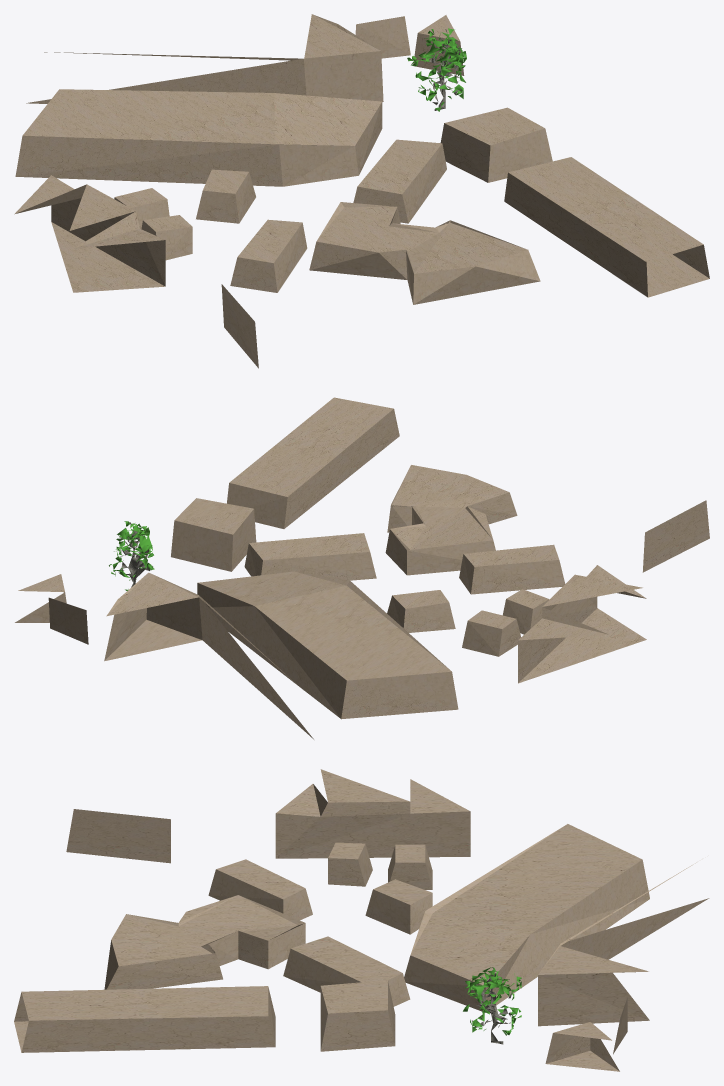
Rendered from tile_1_-2.gltf.
3 views of the same model, one above another, from view 1: azimuth 30°, elevation 25°; view 2: azimuth 150°, elevation 25°; view 3: azimuth 270°, elevation 25° (orthographic). The views are drawn at different scales.
Visible parts, largest first — view 1: Plane.011@tile_1_-2, Bodhi Tree_Bodhi_front_2_Mat_0.044@tile_1_-2; view 2: Plane.011@tile_1_-2, Bodhi Tree_Bodhi_front_2_Mat_0.044@tile_1_-2; view 3: Plane.011@tile_1_-2, Bodhi Tree_Bodhi_front_2_Mat_0.044@tile_1_-2.
Part boxes in pixels (x1,y1,x2,y2): Plane.011@tile_1_-2: (14, 14, 709, 368); Bodhi Tree_Bodhi_front_2_Mat_0.044@tile_1_-2: (407, 28, 466, 111); Plane.011@tile_1_-2: (15, 397, 709, 739); Bodhi Tree_Bodhi_front_2_Mat_0.044@tile_1_-2: (109, 521, 154, 590); Plane.011@tile_1_-2: (14, 769, 709, 1071); Bodhi Tree_Bodhi_front_2_Mat_0.044@tile_1_-2: (463, 967, 521, 1044).
Size of the model in its own units: 72.53 by 10.95 by 83.79.
3 materials, 2 textured.
